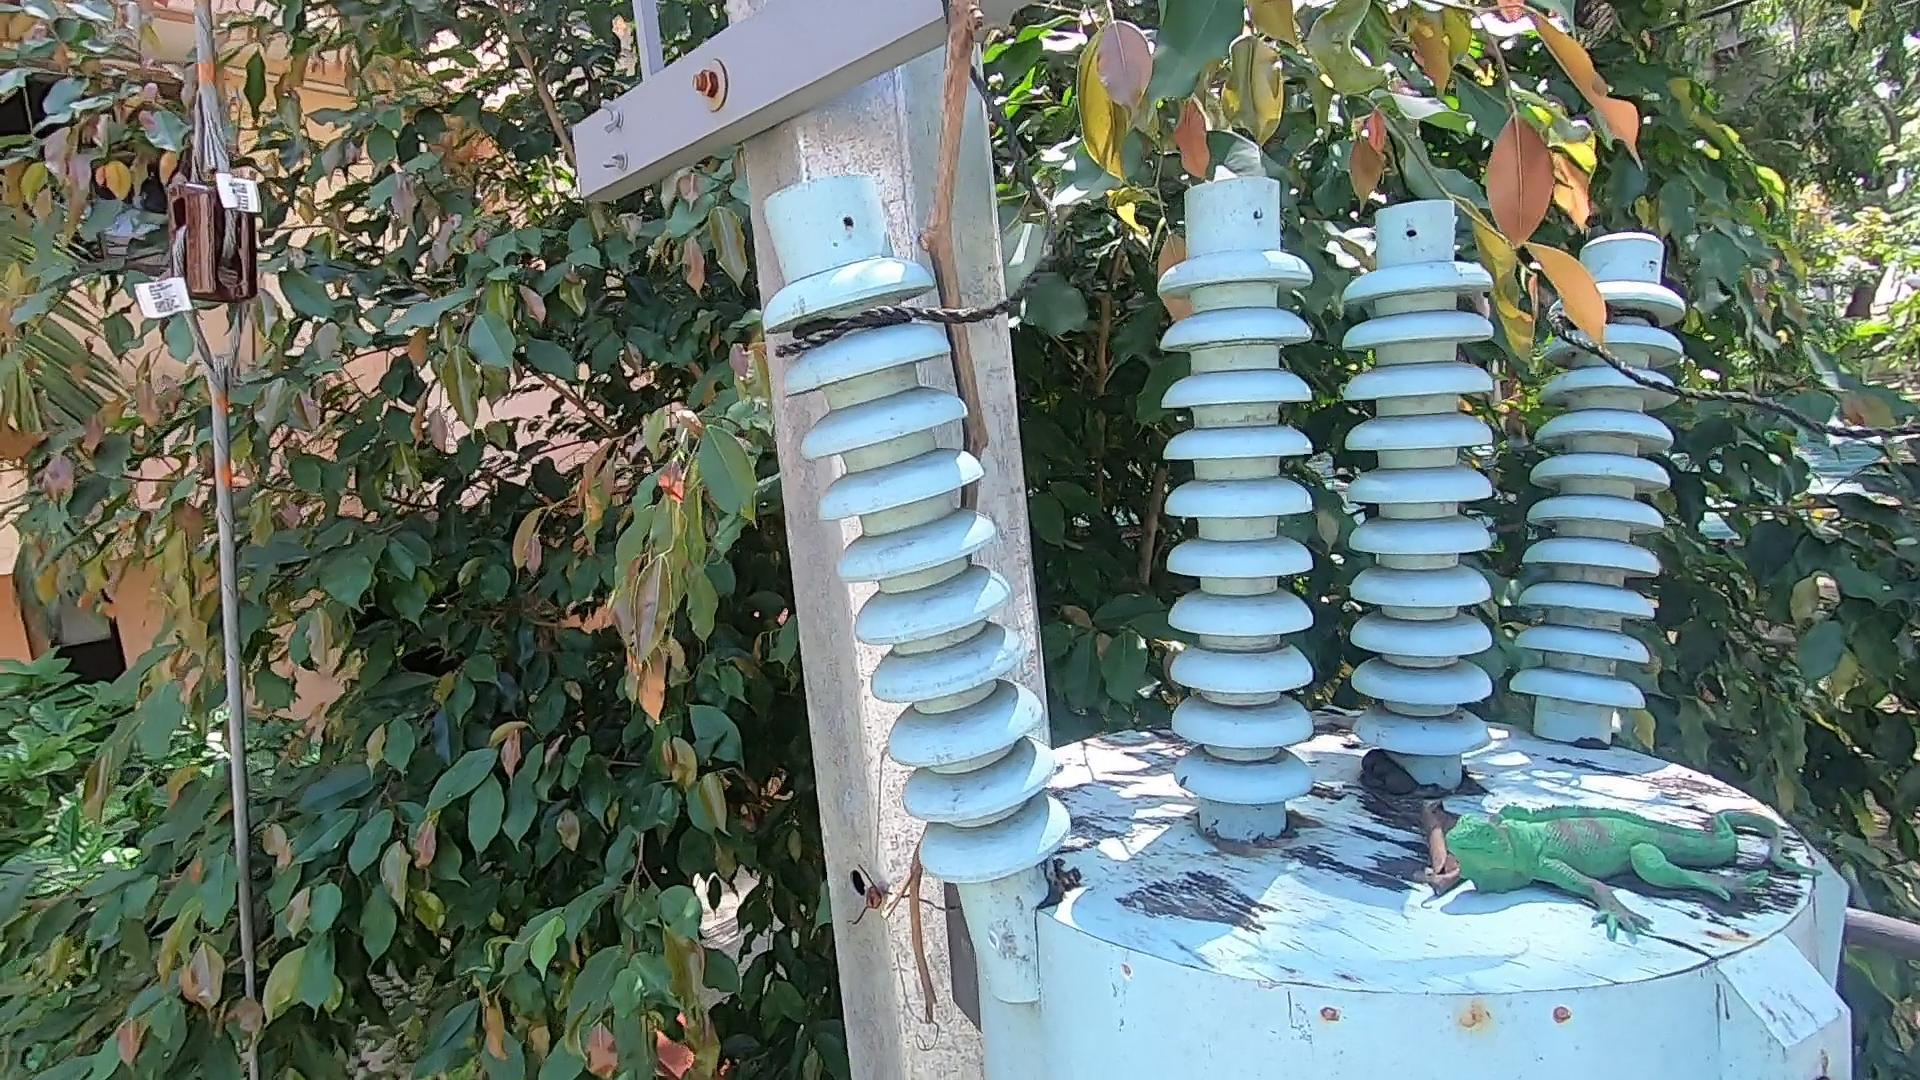branch with leaves: (1319, 112, 1647, 410)
leaf: (1410, 802, 1458, 914), (1367, 742, 1431, 807), (1042, 858, 1087, 913)
tree branch: (825, 11, 988, 1021)
